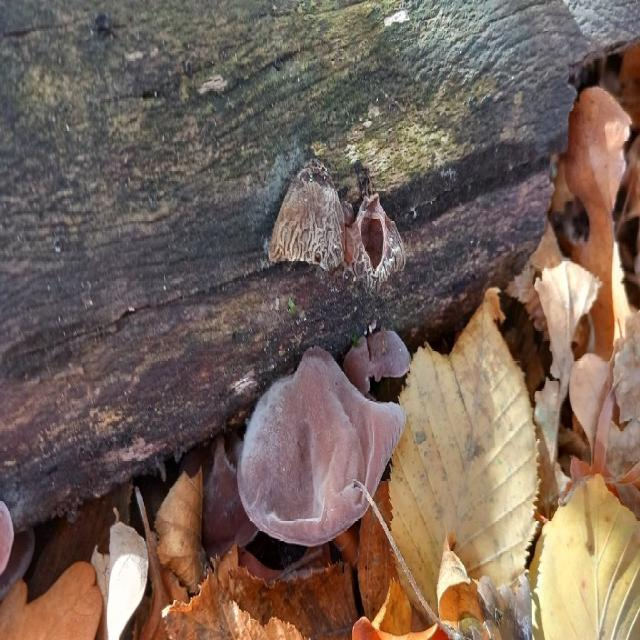Matang: (237, 346, 411, 549), (342, 322, 412, 401)
